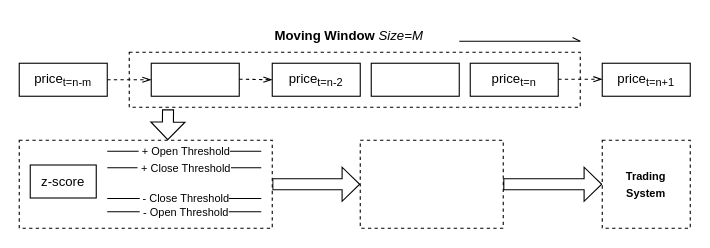
Image size: 710x248. Some labels were removed from this diagram. The shapes that lost their labels are listed below. From the top down, each one's centre as x and y in pixels, then its label:
At [194,79]: "price t=n-(m-1)".
At [414,79]: "price t=n-1".
At [431,183]: "Trading Signals Long leg 0 Short leg 1 Short leg 0 Long leg 1 Close Positions".
